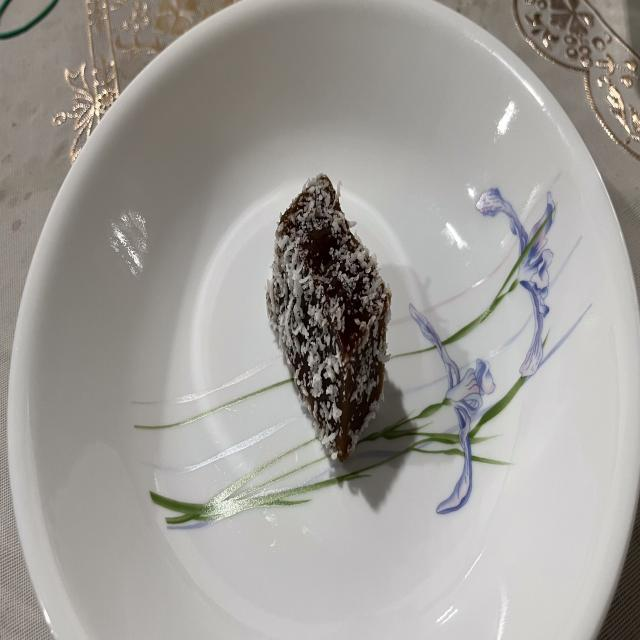kaswi: (266, 173, 391, 460)
